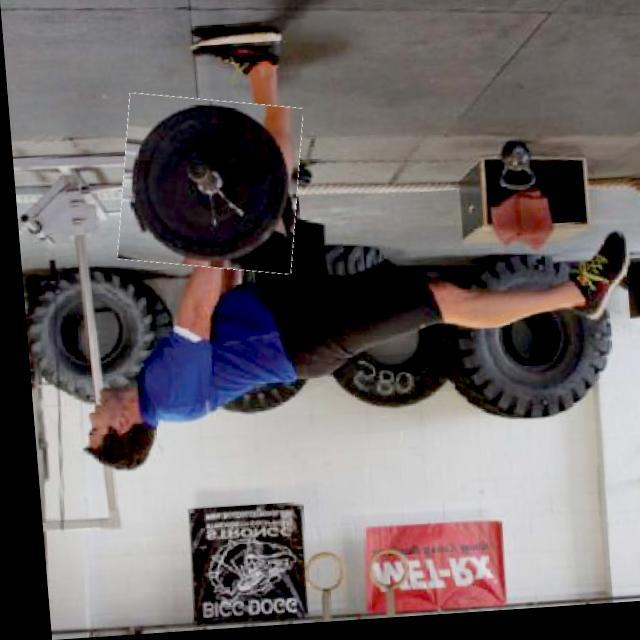barbell: (110, 93, 306, 281)
